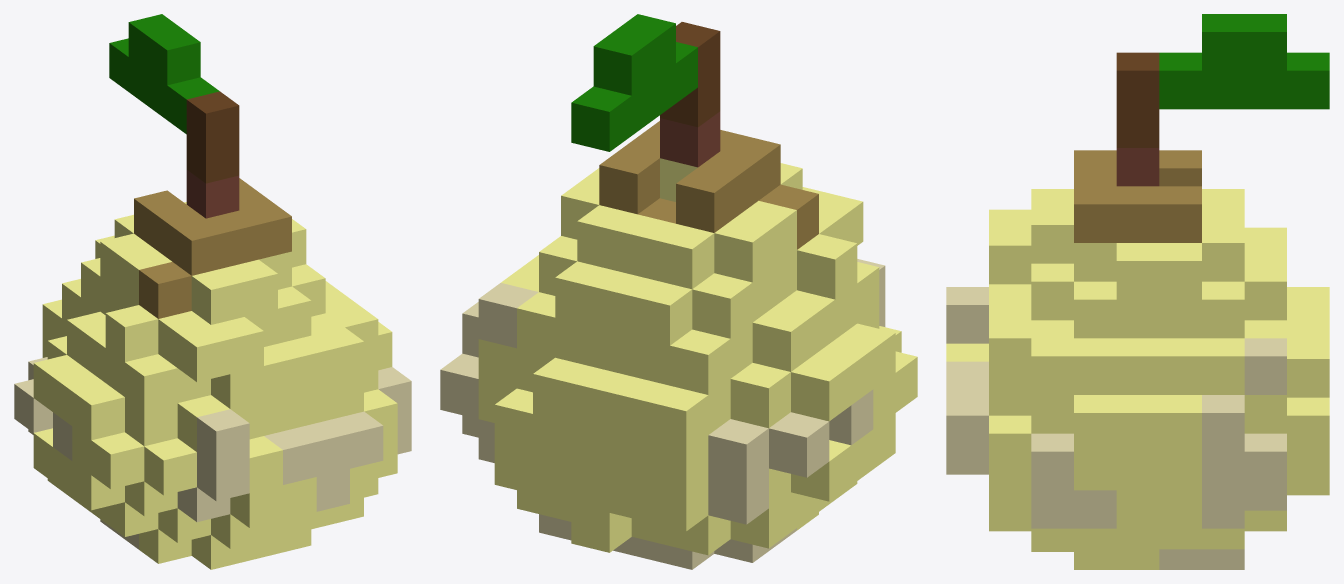
File: Medieval Assets-347-Vegetation - Crop - Pear.obj
3 renders of one model, left to right at view 1: azimuth 30°, elevation 25°; view 2: azimuth 150°, elevation 25°; view 3: azimuth 270°, elevation 25°, orthographic. The views are drawn at different scales.
Visible parts, largest first — view 1: Vegetation - Crop - Pear; view 2: Vegetation - Crop - Pear; view 3: Vegetation - Crop - Pear.
Boxes of the visible parts, x1,y1,x2,y2 form: Vegetation - Crop - Pear: (14,14,411,569); Vegetation - Crop - Pear: (440,14,917,569); Vegetation - Crop - Pear: (946,14,1329,569).
Size of the model in its own units: 0.9 by 1.3 by 0.9.
1 material, 1 textured.
